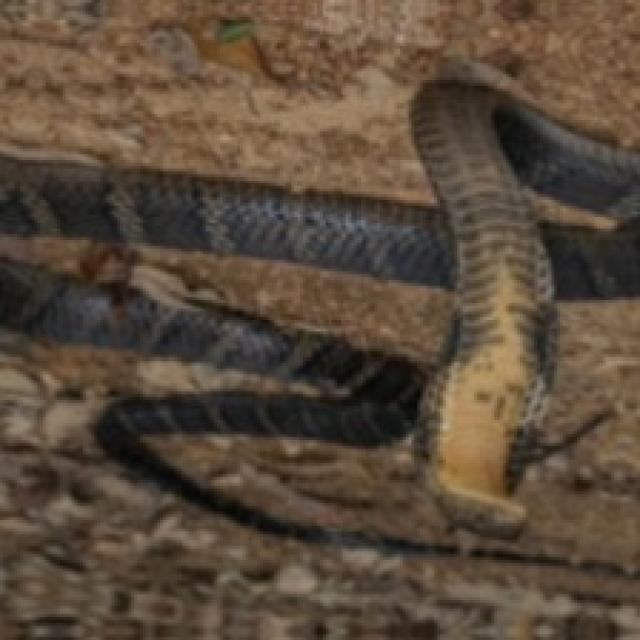king cobra: (0, 63, 637, 571)
